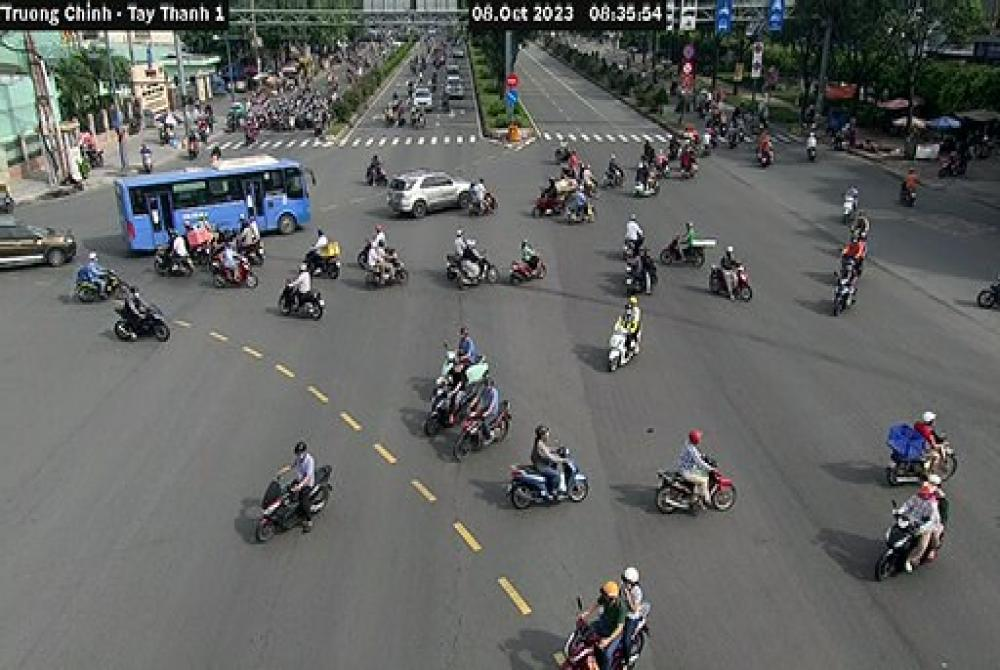bus: (116, 149, 313, 266)
